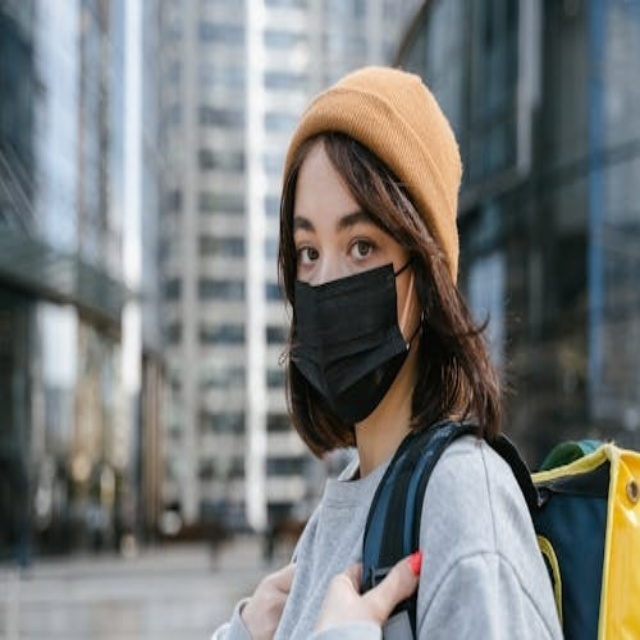Mascara: (290, 257, 419, 423)
Sin_gafas: (289, 204, 383, 275)
Sin_guantes: (307, 534, 421, 627)
